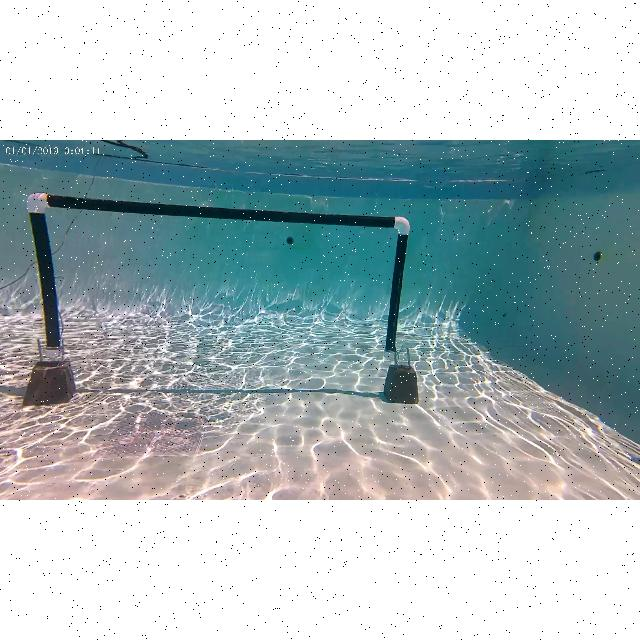prequal gate: (27, 191, 410, 359)
prequal gate leg l: (24, 192, 66, 354)
prequal gate leg r: (383, 215, 409, 362)
